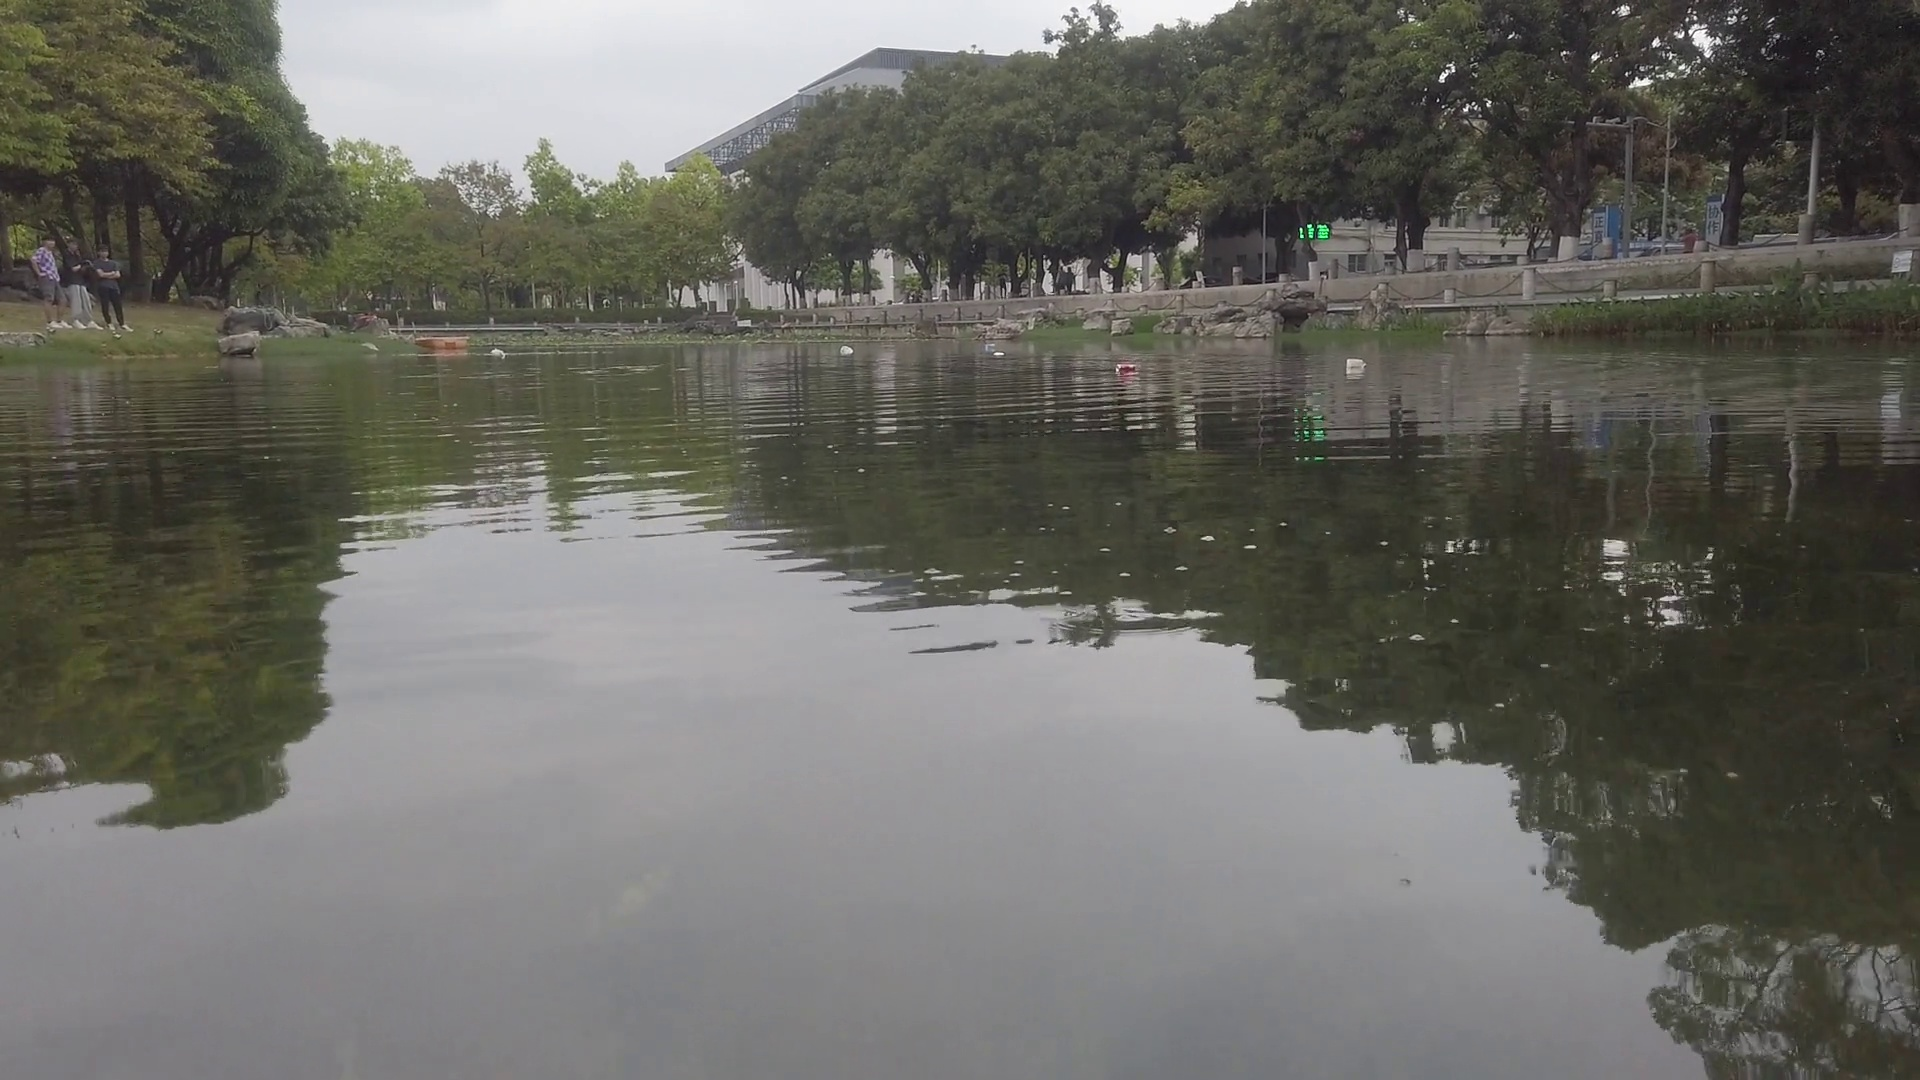bottle: (1116, 364, 1138, 375)
carton: (1346, 359, 1367, 368), (984, 343, 996, 349)
paper: (994, 352, 1005, 357)
plastic: (837, 343, 855, 355), (491, 345, 506, 357)
